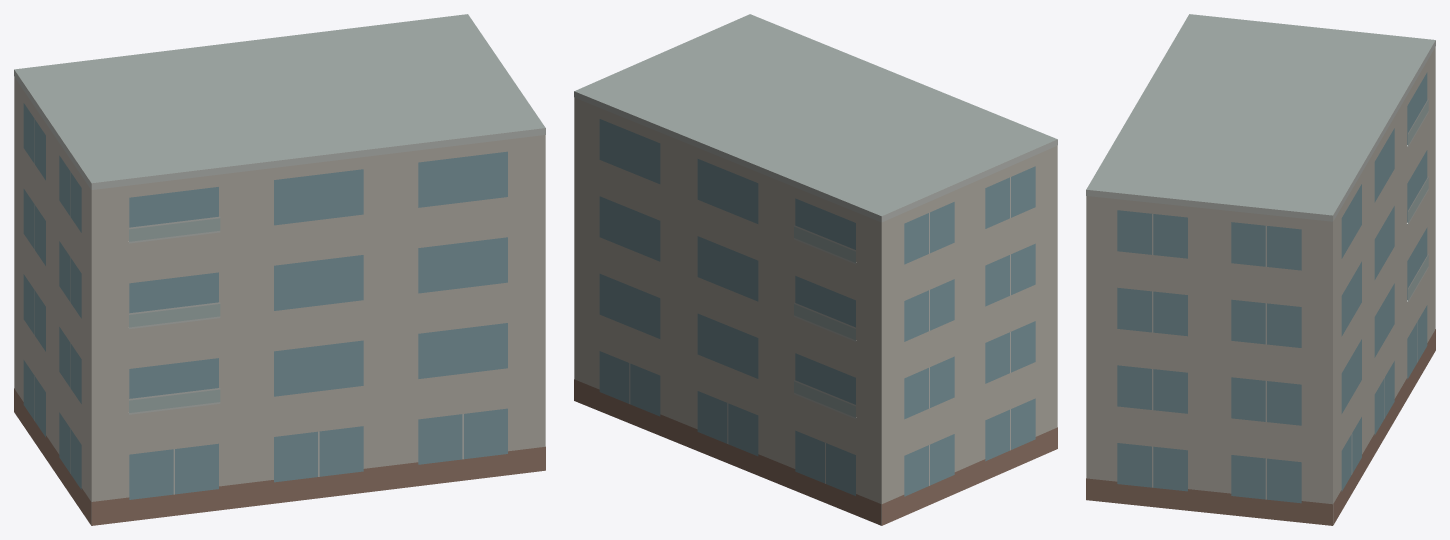
File: residential-d7581ca2-9663-4052-9ae9-d9447d7b3763.glb
3 renders of one model, left to right at view 1: azimuth 30°, elevation 25°; view 2: azimuth 150°, elevation 25°; view 3: azimuth 270°, elevation 25°, orthographic. The views are drawn at different scales.
Visible parts, largest first — view 1: residential-d7581ca2-9663-4052-9ae9-d9447d7b3763.tmp; view 2: residential-d7581ca2-9663-4052-9ae9-d9447d7b3763.tmp; view 3: residential-d7581ca2-9663-4052-9ae9-d9447d7b3763.tmp.
Boxes of the visible parts, x1,y1,x2,y2 form: residential-d7581ca2-9663-4052-9ae9-d9447d7b3763.tmp: (14,14,545,525); residential-d7581ca2-9663-4052-9ae9-d9447d7b3763.tmp: (574,14,1057,525); residential-d7581ca2-9663-4052-9ae9-d9447d7b3763.tmp: (1086,14,1435,525).
Size of the model in its own units: 17 by 12.2 by 12.47.
